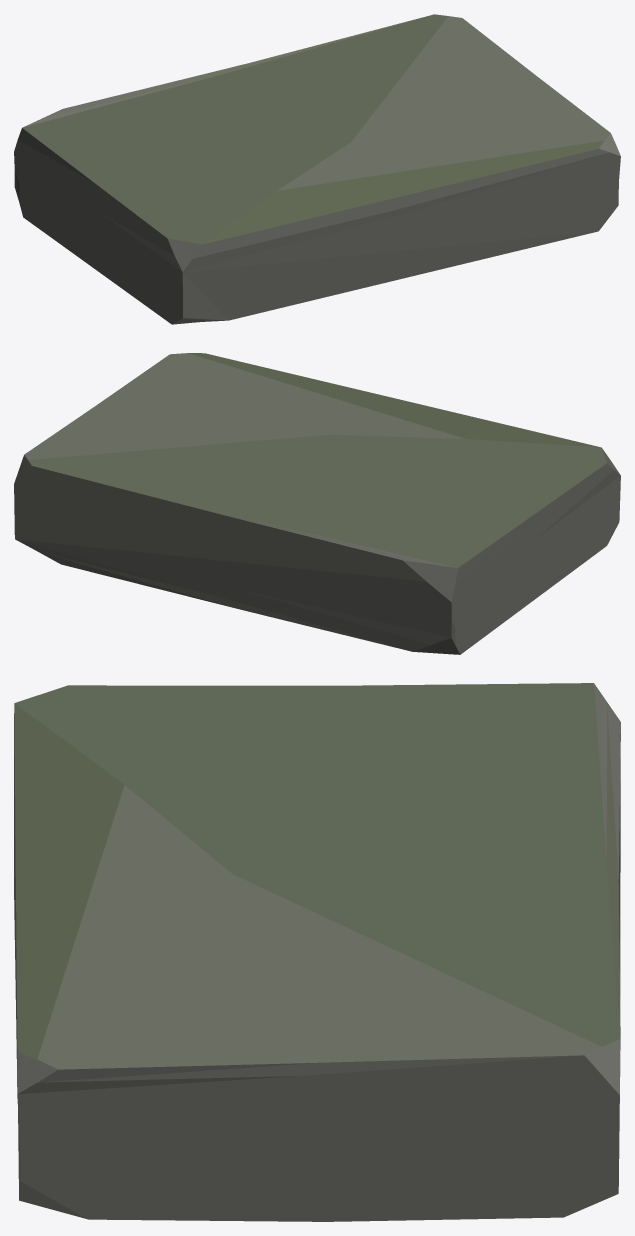
Rendered from rock_slab.glb.
The picture shows the model from 3 angles, top to bottom: view 1: azimuth 30°, elevation 25°; view 2: azimuth 150°, elevation 25°; view 3: azimuth 270°, elevation 25°; orthographic projection. The views are drawn at different scales.
Visible parts, largest first — view 1: rock_slab; view 2: rock_slab; view 3: rock_slab.
Part boxes in pixels (x1,y1,x2,y2): rock_slab: (14, 14, 620, 324); rock_slab: (14, 353, 620, 654); rock_slab: (14, 683, 620, 1221).
Size of the model in its own units: 2.42 by 0.492 by 1.61.
